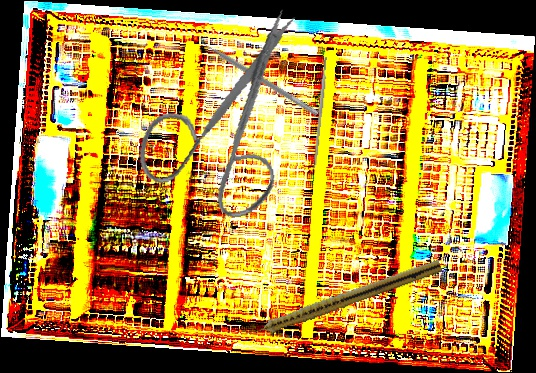Handpiece: (241, 254, 443, 344)
Iris Scissors: (117, 4, 330, 233)
Scalpel Handle: (312, 57, 329, 168)
Spatula Surgical: (194, 33, 323, 117)
